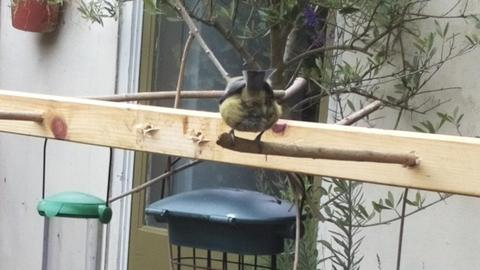blue tit: (218, 70, 282, 154)
